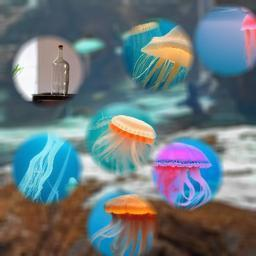not an animal: (43, 41, 76, 100)
